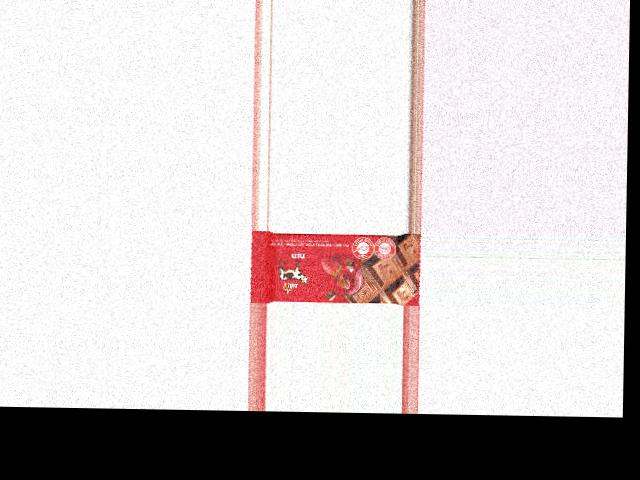chocolate: (249, 230, 419, 305)
